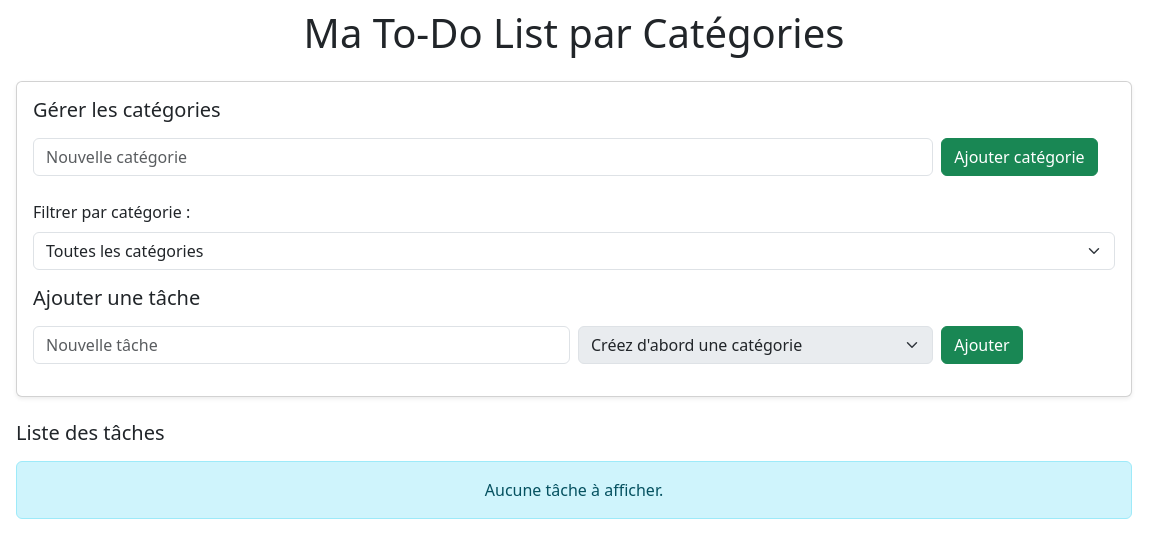
Scenario: To-Do List › permet de marquer une tâche comme terminée et de la supprimer
Type "Maison" into the field with placeholder "Nouvelle catégorie". click: (483, 157)
box: [33,138,933,176]
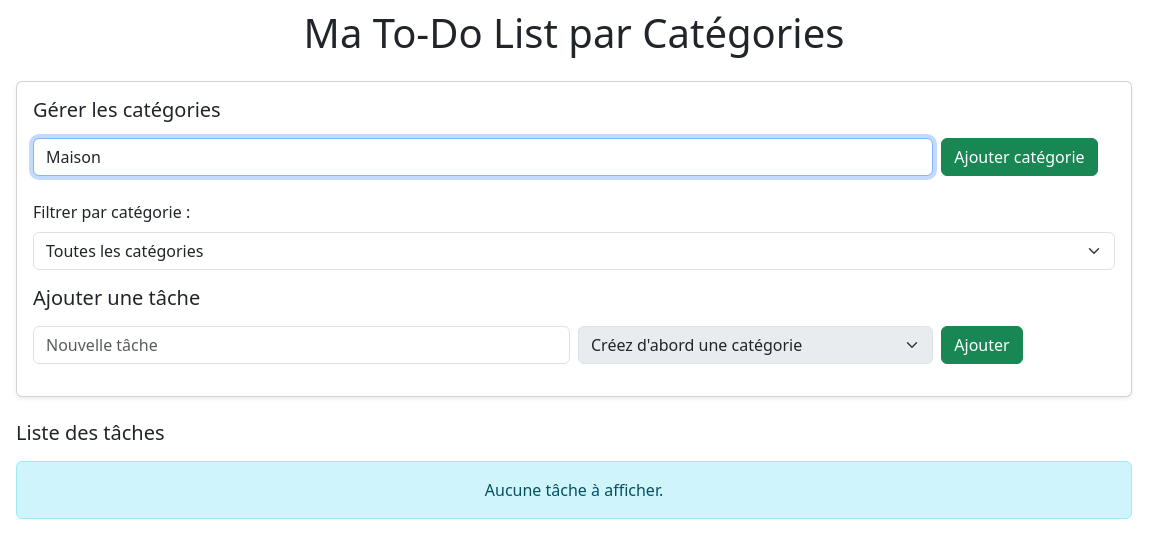
Click the button "Ajouter catégorie". click: (1019, 157)
box: [941,138,1098,176]
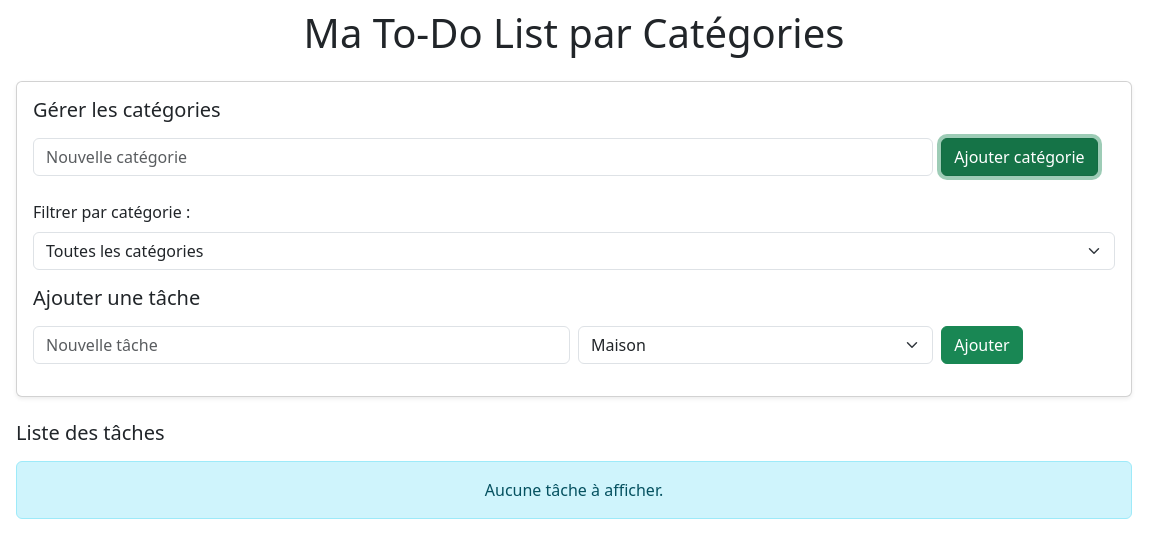
Type "Ranger le bureau" into the field with placeholder "Nouvelle tâche". click: (302, 345)
box: [33,326,570,364]
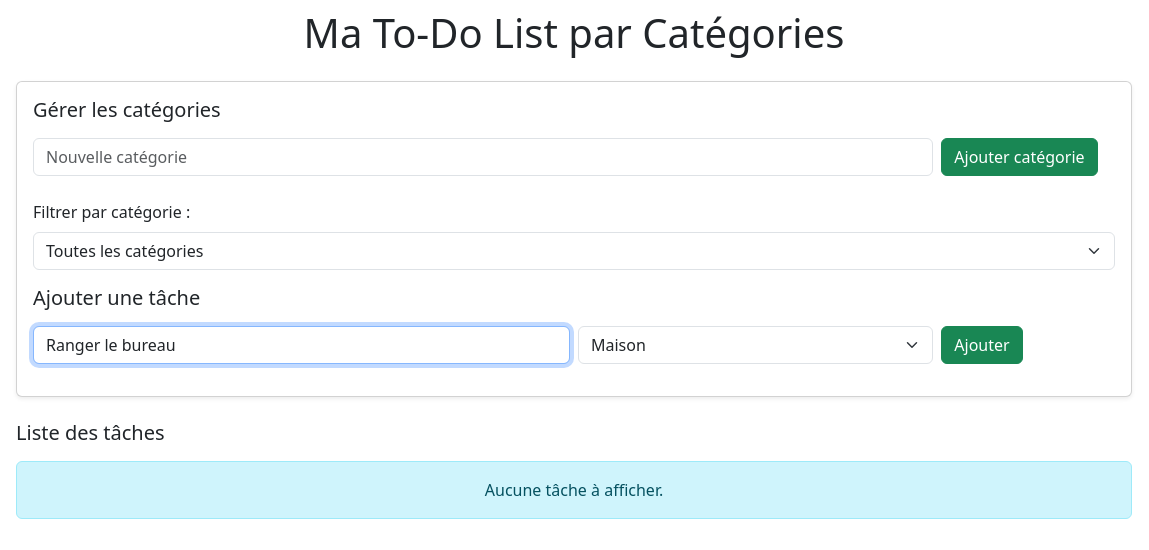
Click the button "Ajouter". click: (982, 345)
box: [941,326,1023,364]
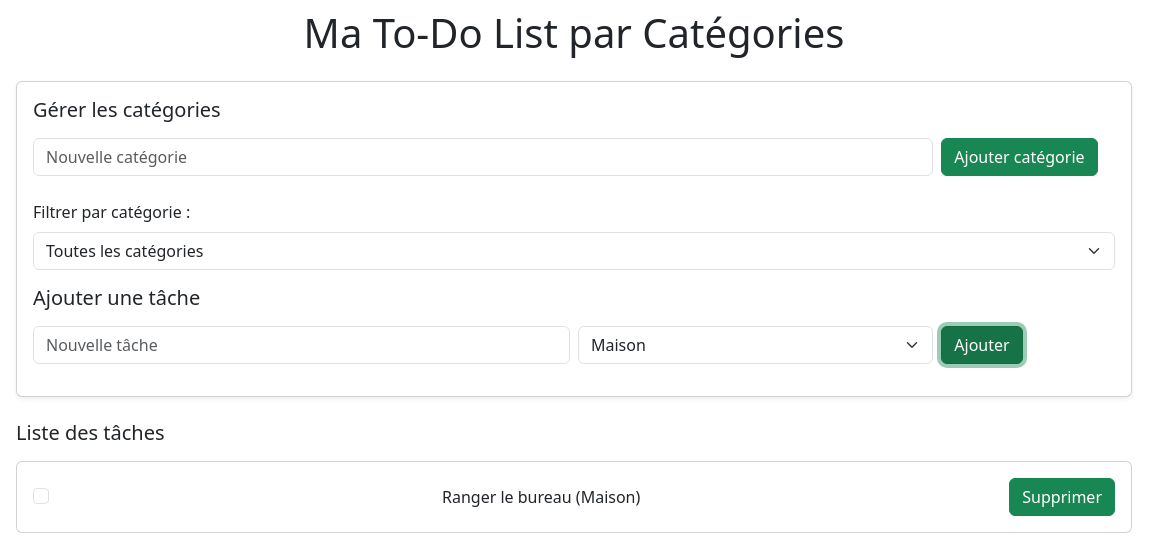
Click the checkbox. click: (41, 496)
box: [33,488,49,504]
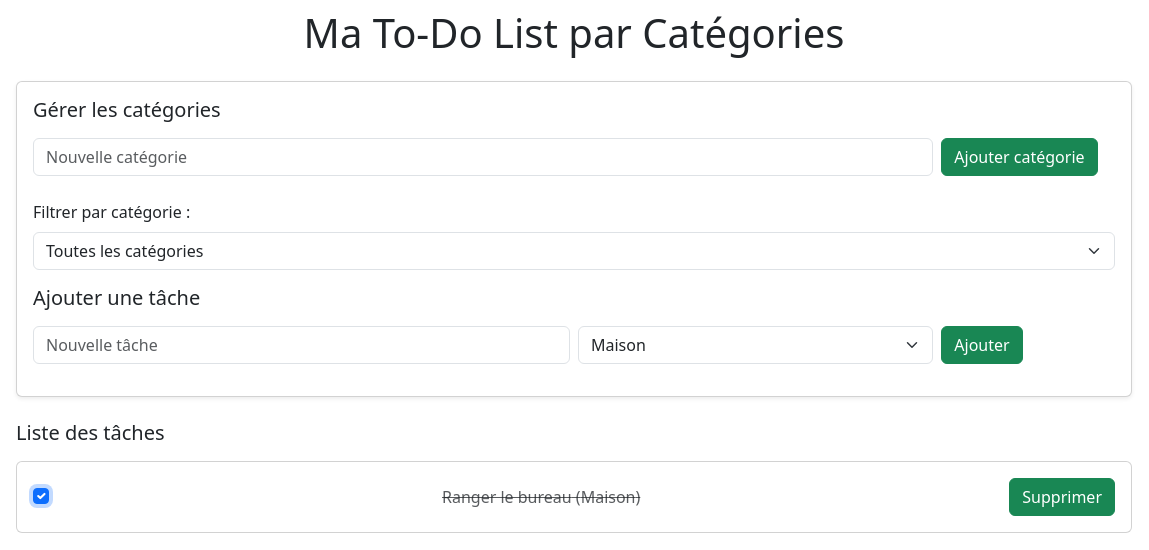
Result: the text "Ranger le bureau (Maison)" has class "text-decoration-line-through" at [442,486,640,508]
Result: the checkbox is checked at [33,488,49,504]
Click the button "Supprimer". click: (1062, 497)
box: [1009,478,1115,516]
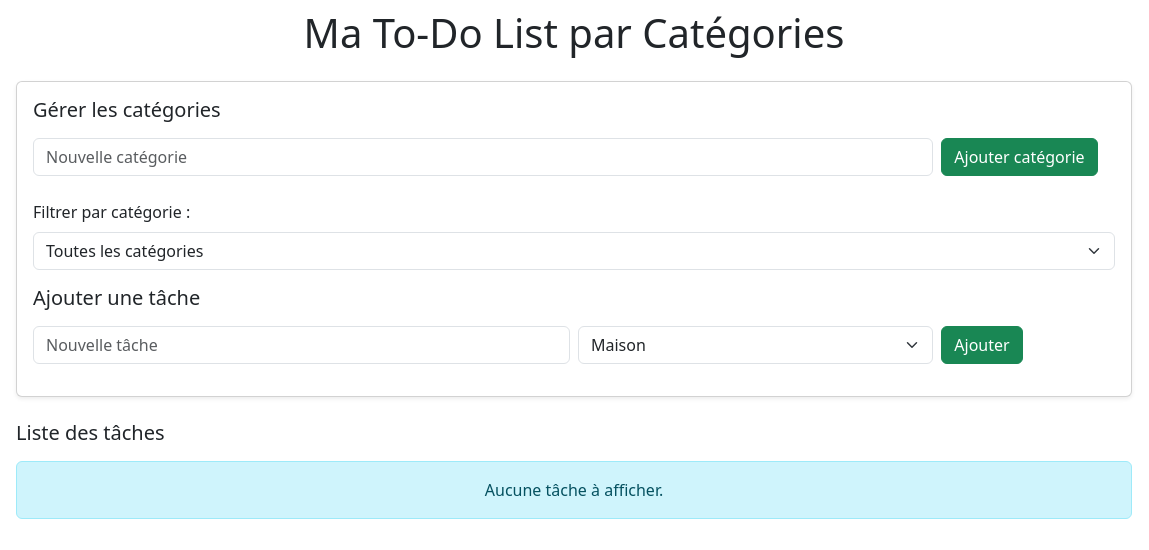
Result: the text "Ranger le bureau (Maison)" is gone
Result: the message reads "Aucune tâche à afficher." at [485,479,663,501]
